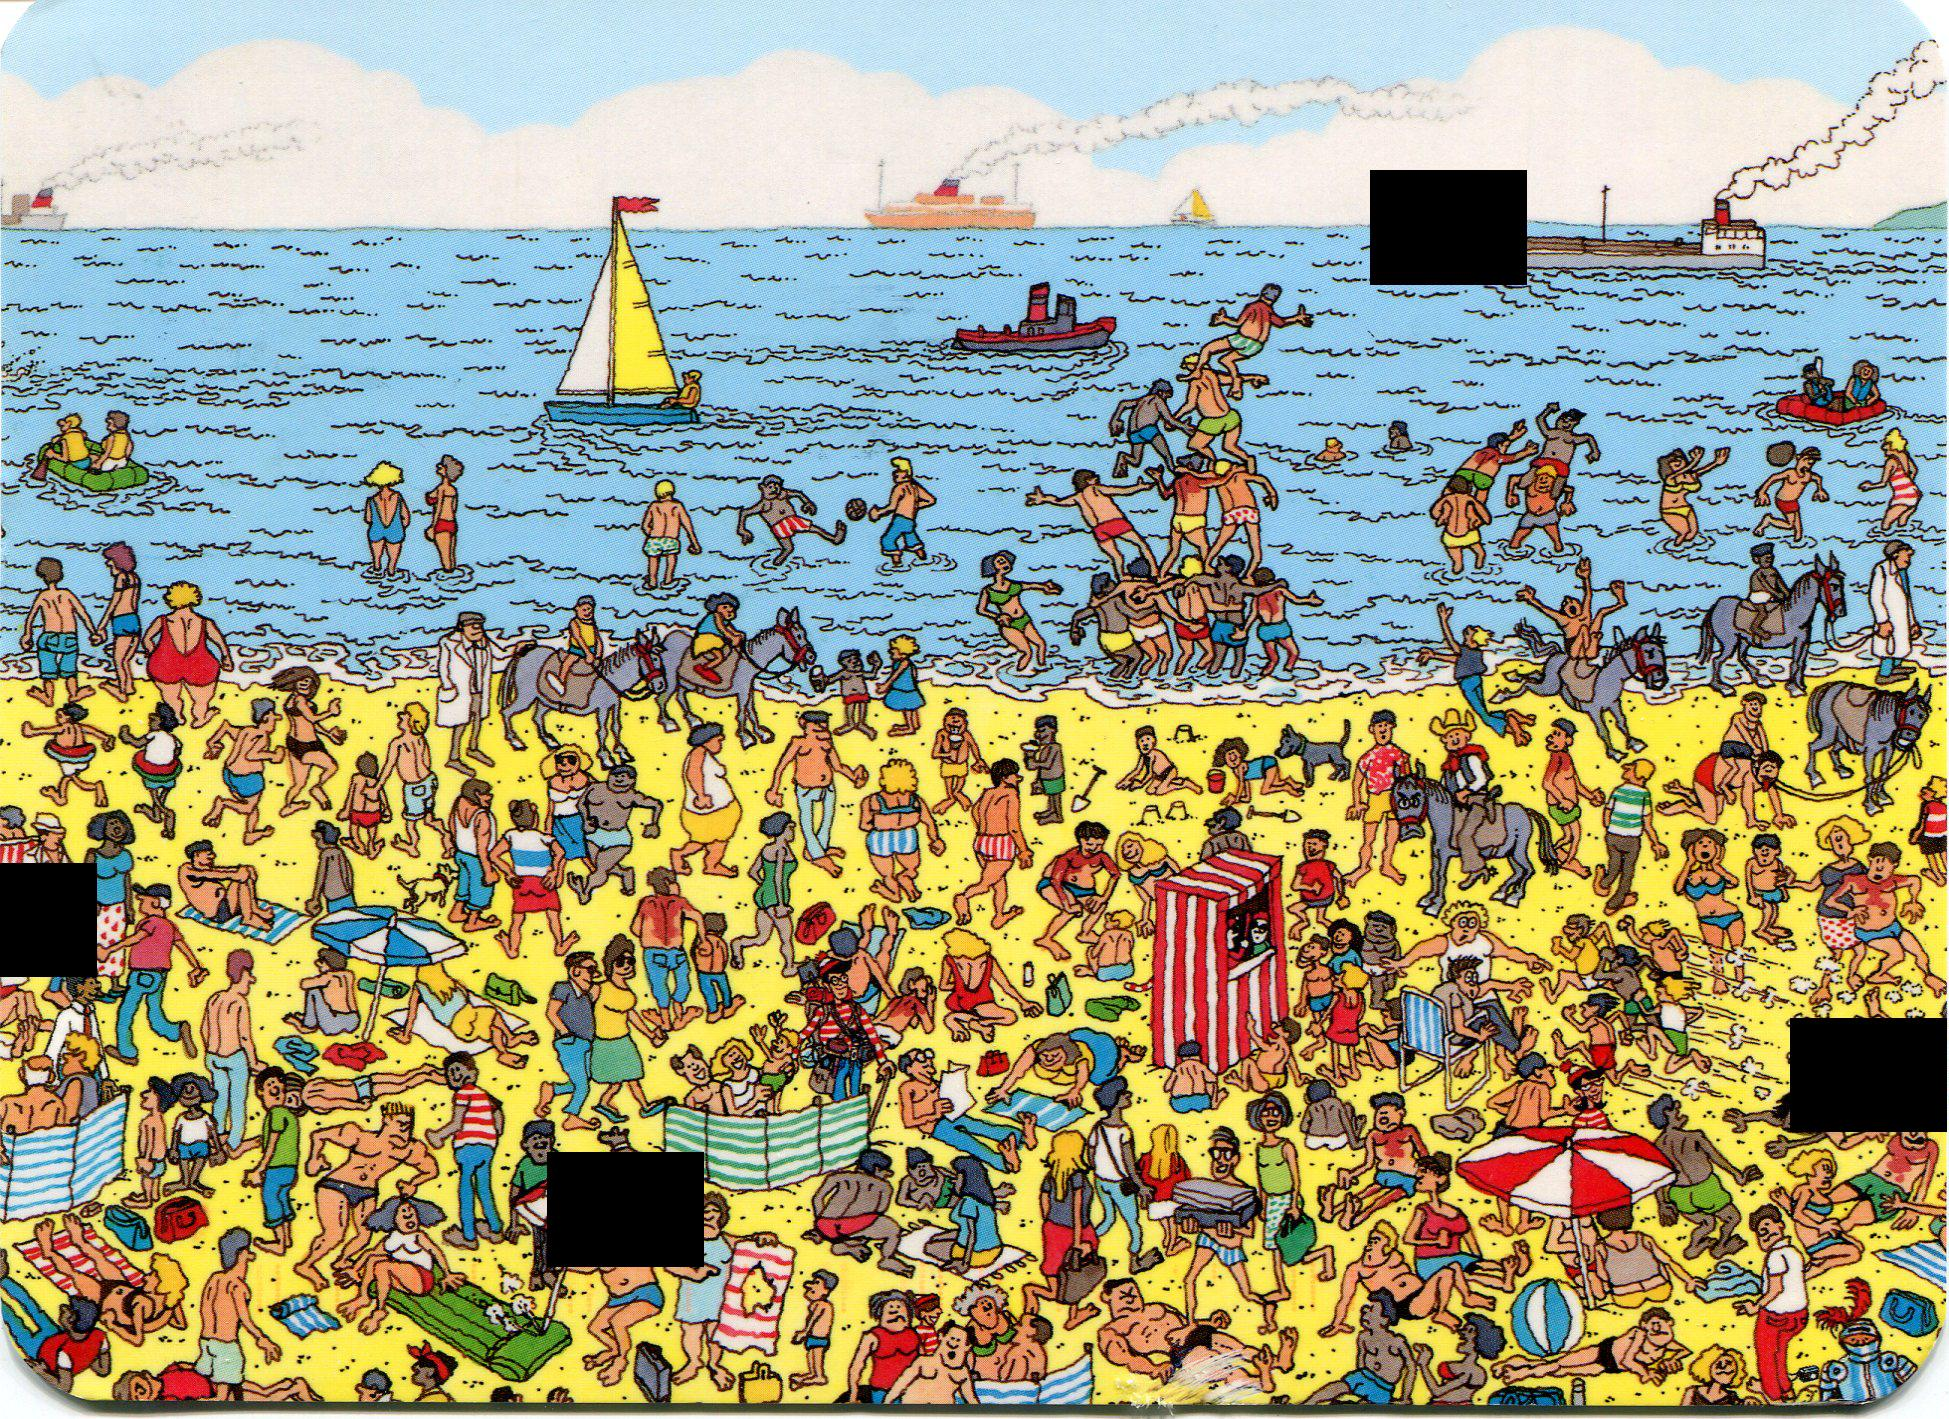waldo: (817, 952, 852, 998)
